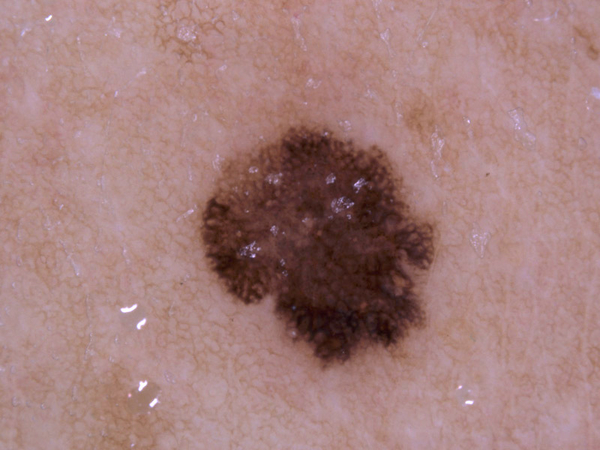Detected Lesion: (195, 119, 448, 374)
